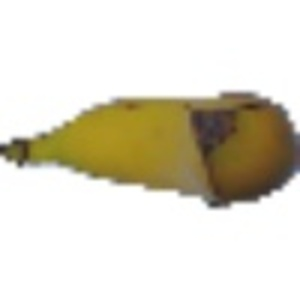banana: (2, 89, 296, 203)
